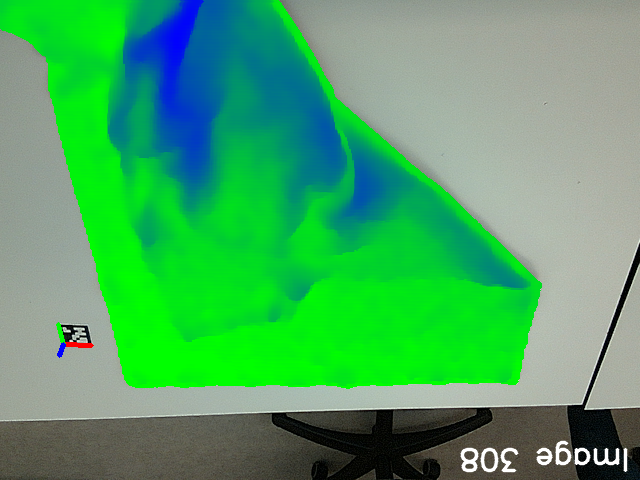V: (171, 311, 208, 348)
